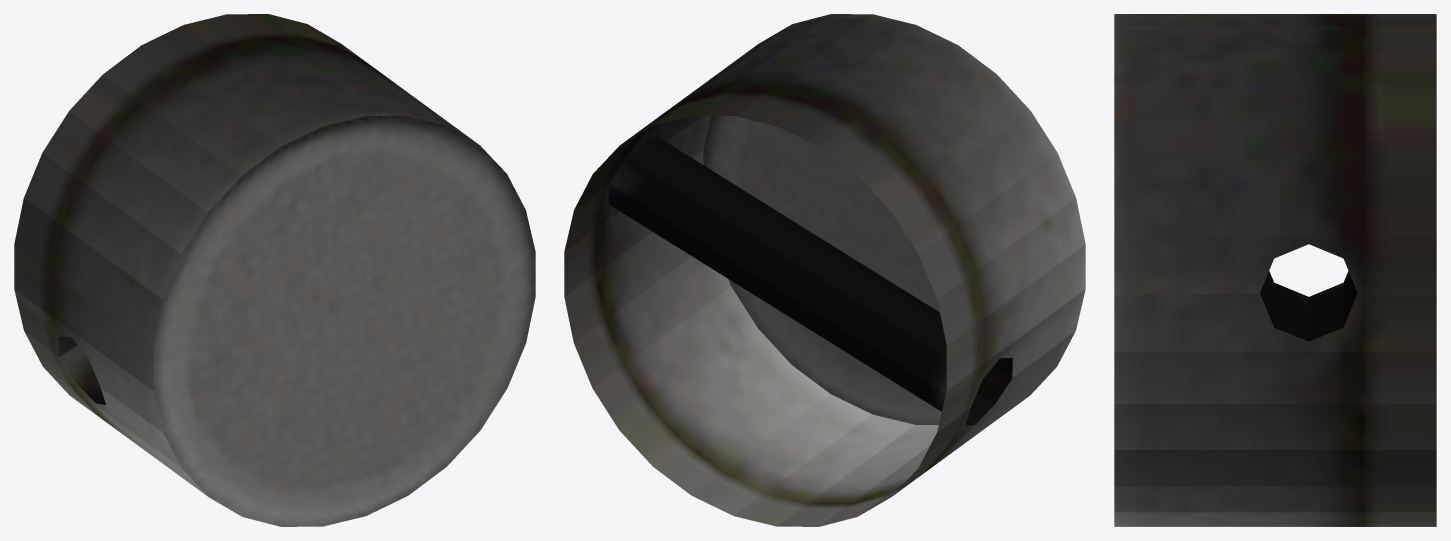
The picture shows the model from 3 angles, left to right: view 1: azimuth 30°, elevation 25°; view 2: azimuth 150°, elevation 25°; view 3: azimuth 270°, elevation 25°; orthographic projection. The views are drawn at different scales.
Visible parts, largest first — view 1: TW_588892092459774ac91d4b11_PZ_Import; view 2: TW_588892092459774ac91d4b11_PZ_Import; view 3: TW_588892092459774ac91d4b11_PZ_Import.
Boxes of the visible parts, x1=… form: TW_588892092459774ac91d4b11_PZ_Import: x1=14, y1=14, x2=535, y2=526; TW_588892092459774ac91d4b11_PZ_Import: x1=564, y1=14, x2=1085, y2=526; TW_588892092459774ac91d4b11_PZ_Import: x1=1114, y1=14, x2=1436, y2=526.
Size of the model in its own units: 0.0055 by 0.00346 by 0.0055.
1 material, 1 textured.
